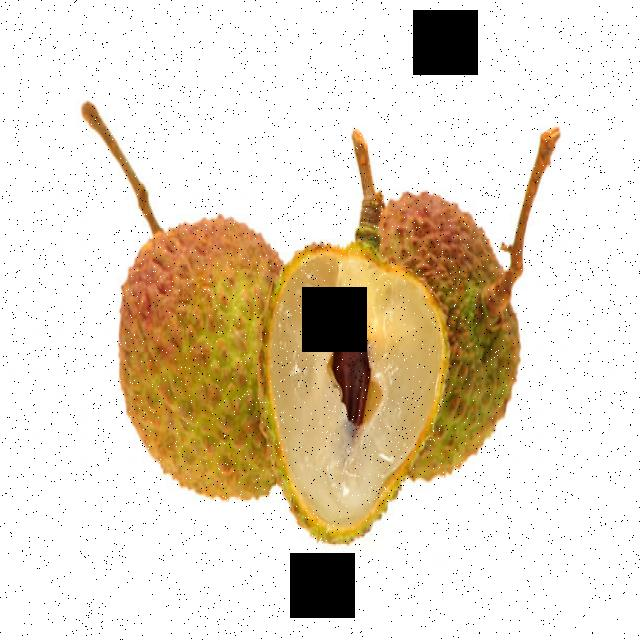lychee: (88, 120, 534, 548)
